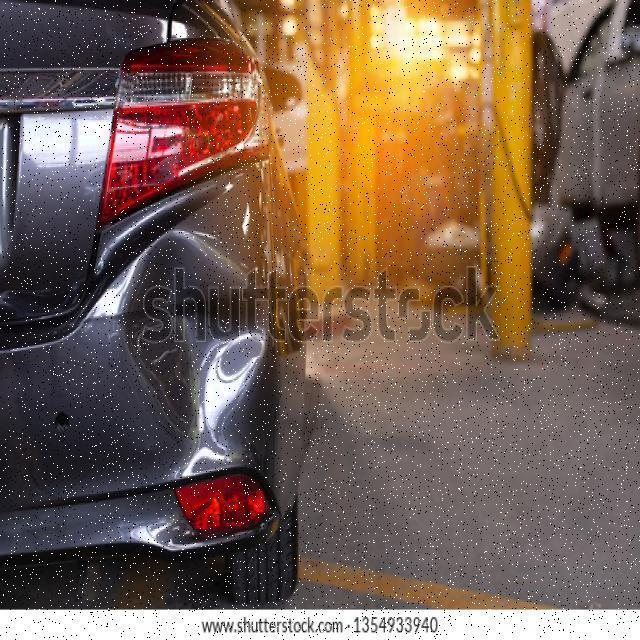rear-bumper-dent: (0, 223, 291, 546)
